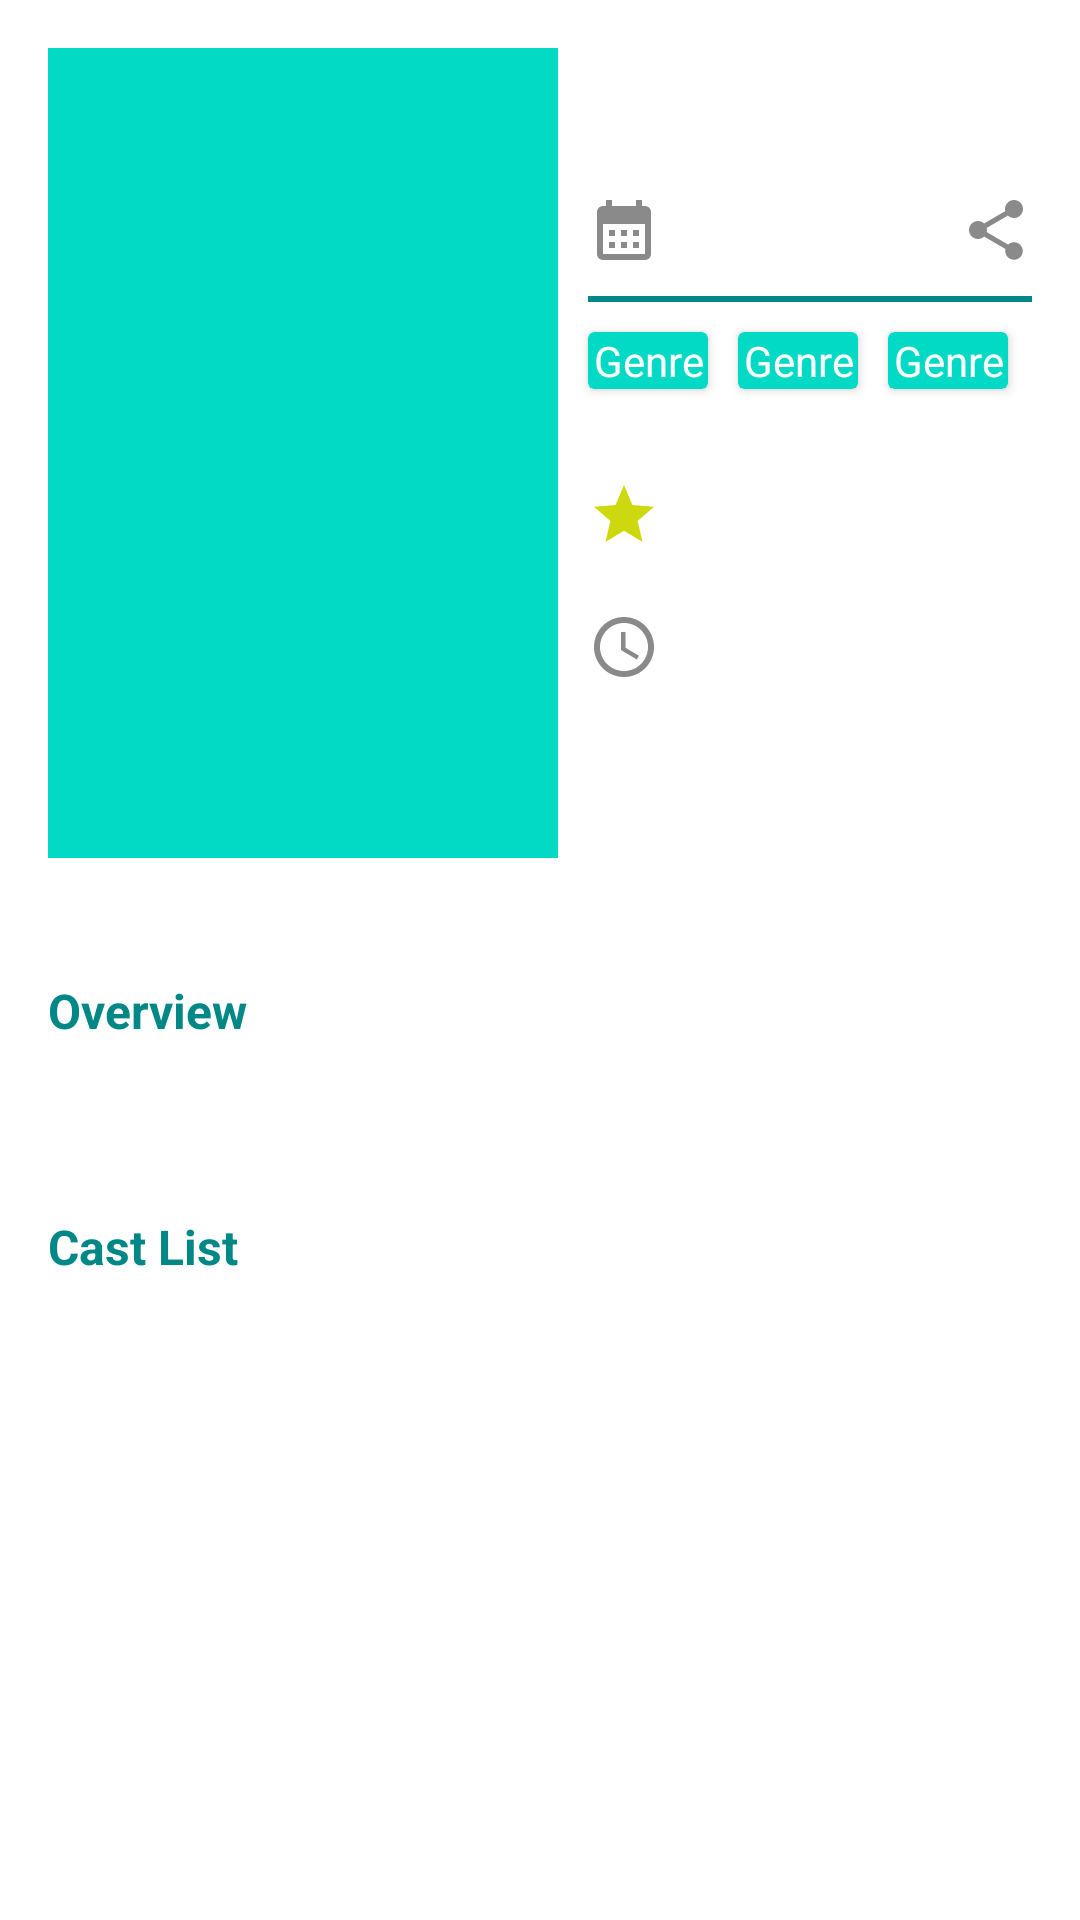

Point at icon controls on the screen. Image size 1080 × 1920, points as point (x, y).
access time: point (624, 647)
calendar month: point (624, 230)
share: point (996, 230)
star: point (624, 513)
